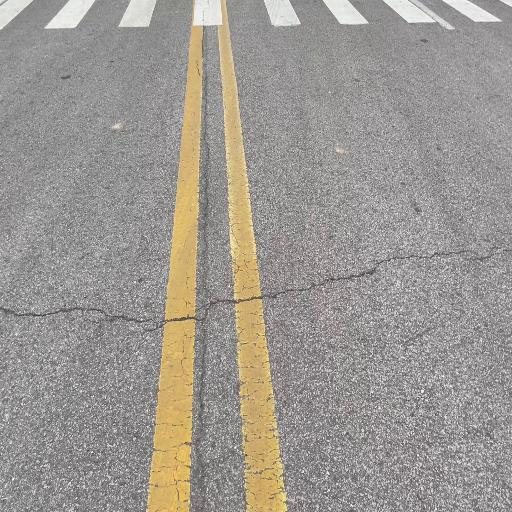Melintang: (216, 235, 512, 312), (0, 297, 213, 336)
